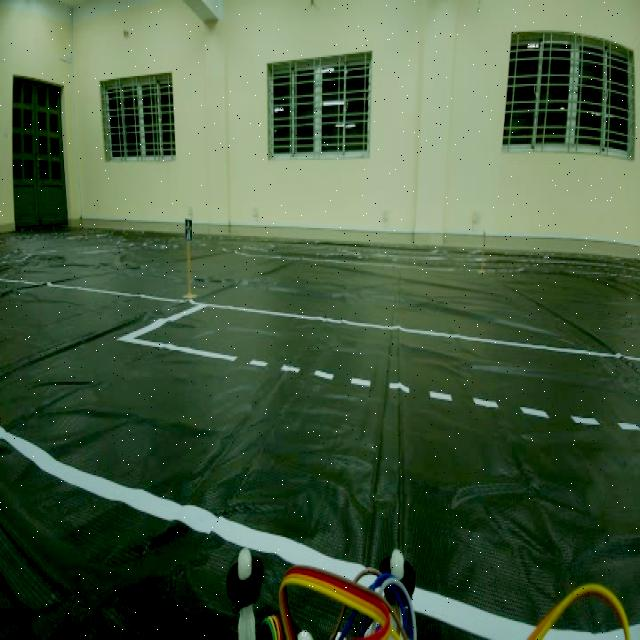highway_exit: (182, 207, 198, 244)
